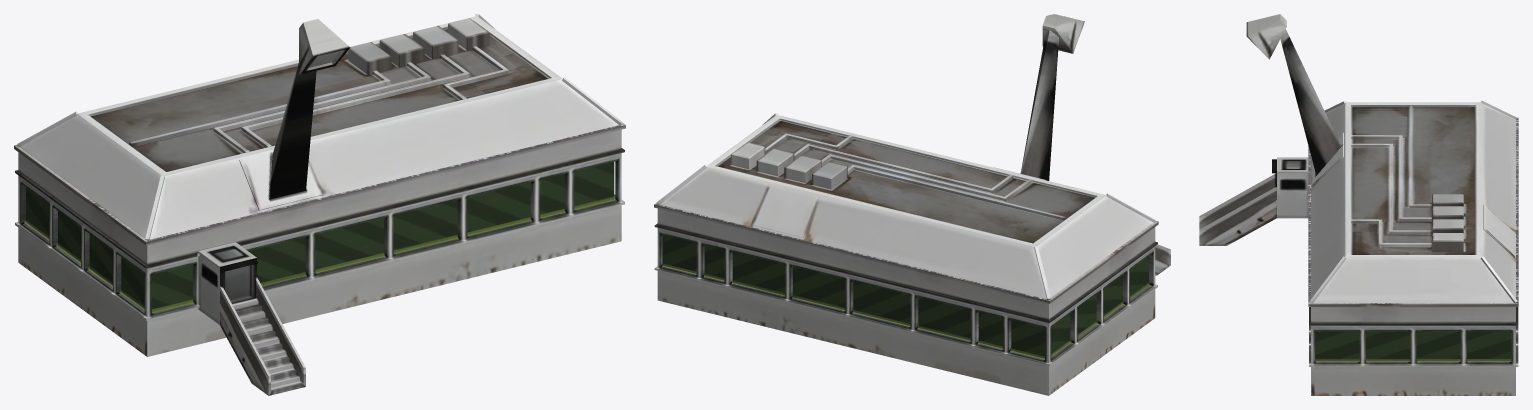
File: terminal1_cad.glb
3 renders of one model, left to right at view 1: azimuth 30°, elevation 25°; view 2: azimuth 150°, elevation 25°; view 3: azimuth 270°, elevation 25°, orthographic. The views are drawn at different scales.
Parts seen in each view (by area): view 1: Terminal; view 2: Terminal; view 3: Terminal.
Part boxes in pixels (x1,y1,x2,y2): Terminal: [14, 14, 625, 395]; Terminal: [654, 14, 1170, 395]; Terminal: [1199, 14, 1518, 395].
Size of the model in its own units: 25.8 by 16.2 by 18.69.
Materials: 1 (1 with a texture image).
